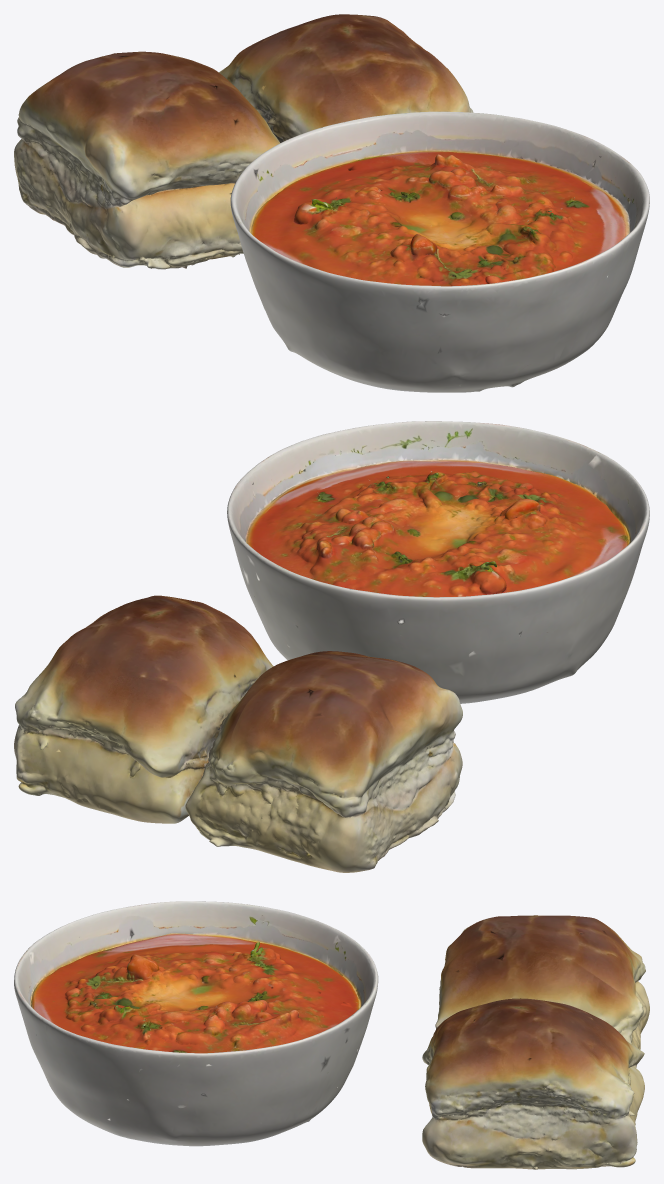
File: pav_bhaji.glb
3 renders of one model, top to bottom at view 1: azimuth 30°, elevation 25°; view 2: azimuth 150°, elevation 25°; view 3: azimuth 270°, elevation 25°, orthographic. The views are drawn at different scales.
Visible parts, largest first — view 1: Mesh_0, Mesh_0.001; view 2: Mesh_0, Mesh_0.001; view 3: Mesh_0, Mesh_0.001.
Boxes of the visible parts, bbox=[...] form: Mesh_0: bbox=[230, 111, 649, 392]; Mesh_0.001: bbox=[14, 14, 473, 269]; Mesh_0: bbox=[227, 421, 649, 703]; Mesh_0.001: bbox=[14, 595, 462, 872]; Mesh_0: bbox=[14, 901, 378, 1146]; Mesh_0.001: bbox=[422, 915, 649, 1169].
Bounding box in the file's own units: 2 × 0.8501 × 3.49.
2 materials, 2 textured.
